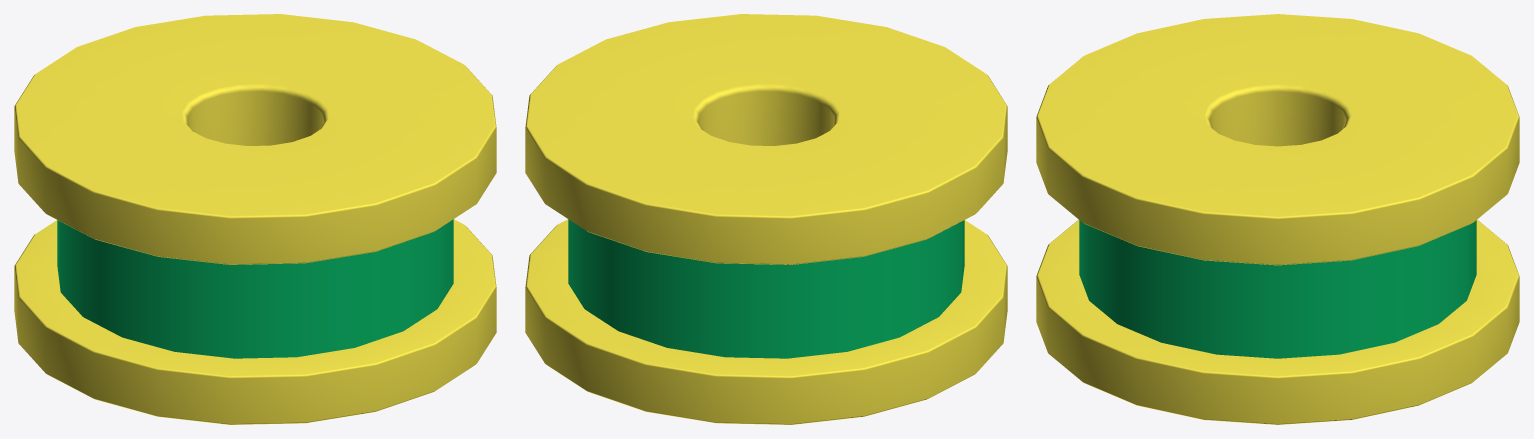
File: Public_19_Skein_of_thread_13.glb
3 renders of one model, left to right at view 1: azimuth 30°, elevation 25°; view 2: azimuth 150°, elevation 25°; view 3: azimuth 270°, elevation 25°, orthographic.
Visible parts, largest first — view 1: Public_19_Skein_of_thread_13; view 2: Public_19_Skein_of_thread_13; view 3: Public_19_Skein_of_thread_13.
Boxes of the visible parts, x1,y1,x2,y2 form: Public_19_Skein_of_thread_13: (14,14,496,424); Public_19_Skein_of_thread_13: (525,14,1007,424); Public_19_Skein_of_thread_13: (1036,14,1519,424).
Size of the model in its own units: 0.4752 by 0.2261 by 0.4752.
1 material, 1 textured.
